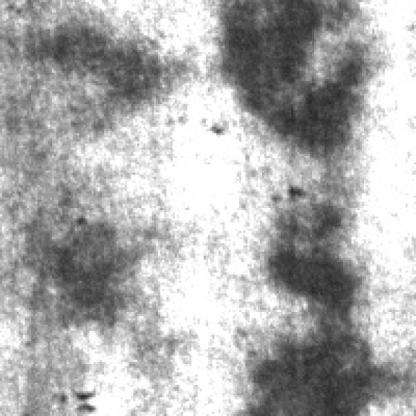patches: (218, 0, 374, 156), (244, 308, 398, 414), (268, 181, 362, 335), (40, 19, 187, 108), (29, 208, 129, 326)
